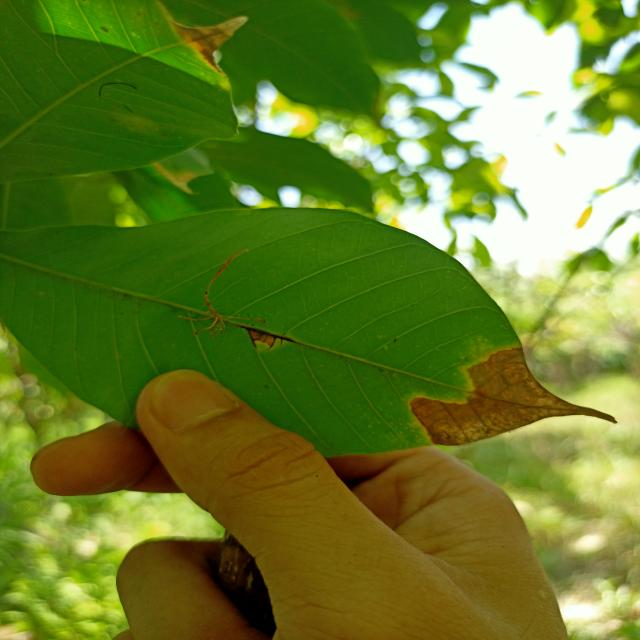Corynespora: (236, 324, 296, 350)
Leaf-Blight: (408, 346, 618, 446)
